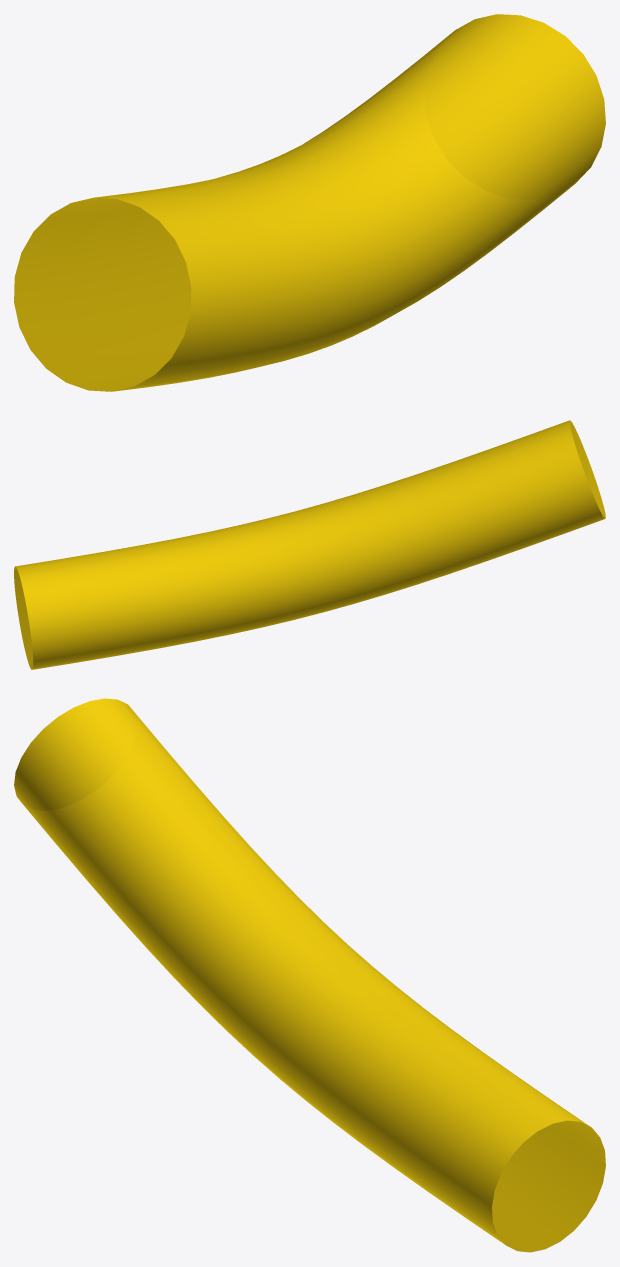
File: Event_421115418_track_129.fbx
The picture shows the model from 3 angles, top to bottom: view 1: azimuth 30°, elevation 25°; view 2: azimuth 150°, elevation 25°; view 3: azimuth 270°, elevation 25°; orthographic projection. The views are drawn at different scales.
Parts seen in each view (by area): view 1: Model; view 2: Model; view 3: Model.
Boxes of the visible parts, box(x1,y1,x2,y2) form: Model: box(14, 14, 605, 391); Model: box(14, 420, 605, 669); Model: box(14, 698, 605, 1252).
Bounding box in the file's own units: 0.1978 × 0.0889 × 0.1623.
